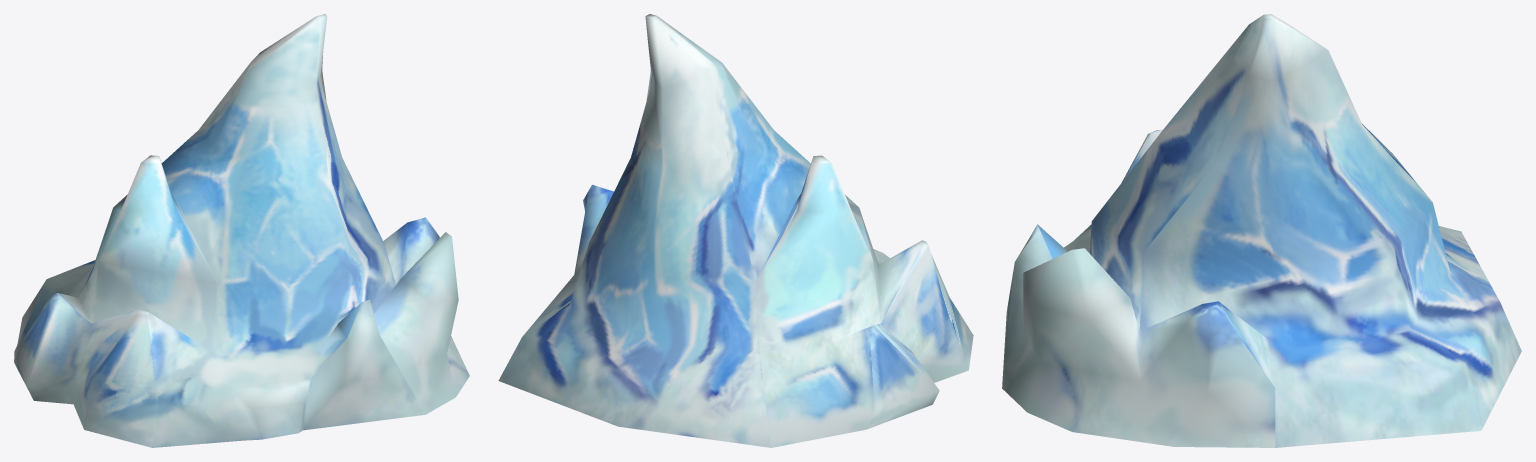
The model's file is xs_bingzui2.FBX.
3 views of the same model, side by side, from view 1: azimuth 30°, elevation 25°; view 2: azimuth 150°, elevation 25°; view 3: azimuth 270°, elevation 25° (orthographic). The views are drawn at different scales.
Parts seen in each view (by area): view 1: Object04; view 2: Object04; view 3: Object04.
Part boxes in pixels (box(x1,y1,x2,y2)): Object04: box(14, 14, 469, 447); Object04: box(498, 14, 973, 447); Object04: box(1002, 14, 1521, 447).
Size of the model in its own units: 122 by 95.84 by 119.
